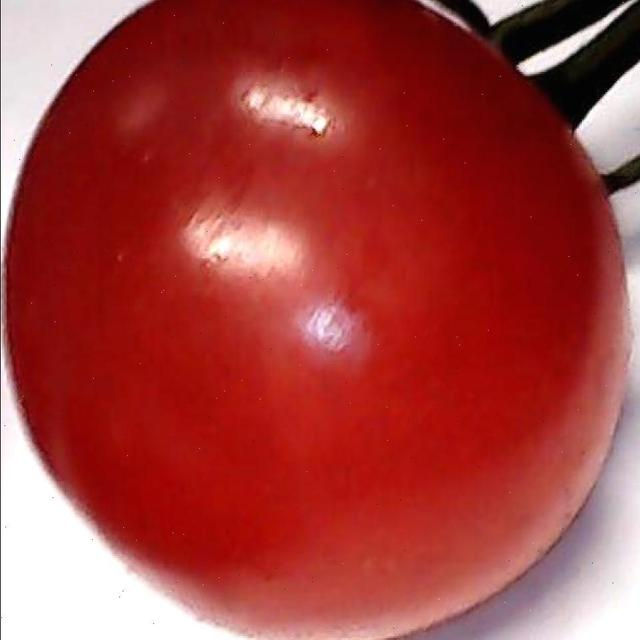Healthy Fruit: (0, 0, 420, 427)
